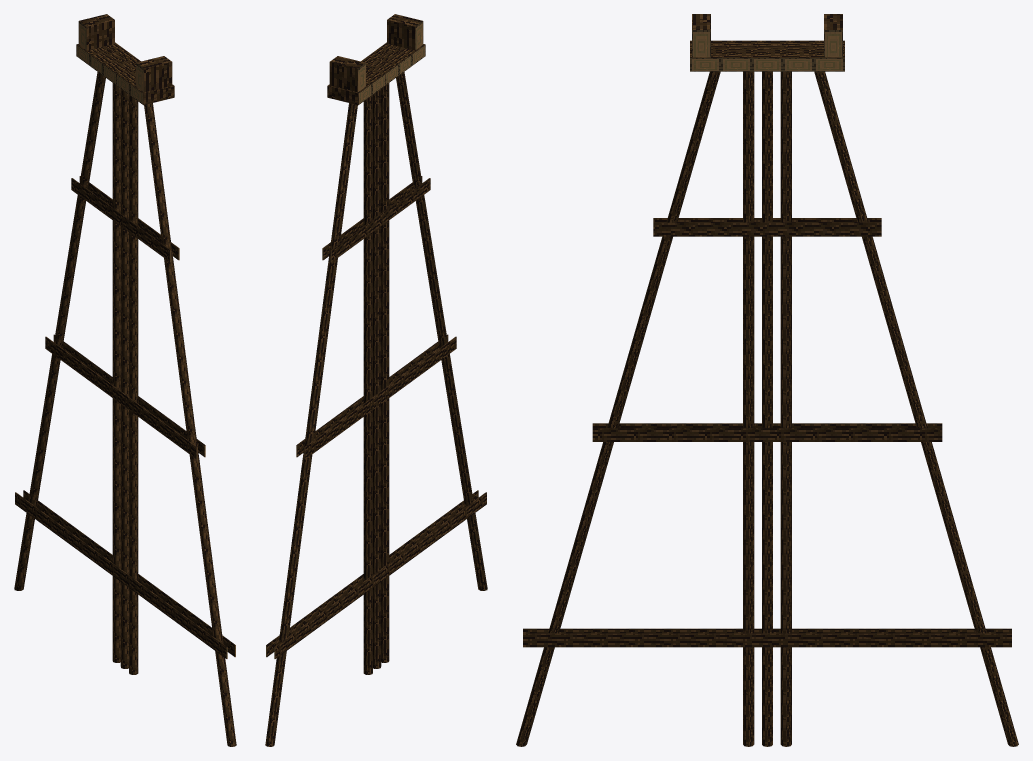
The model's file is darkoak_bridge_support.obj.
3 renders of one model, left to right at view 1: azimuth 30°, elevation 25°; view 2: azimuth 150°, elevation 25°; view 3: azimuth 270°, elevation 25°, orthographic. The views are drawn at different scales.
Visible parts, largest first — view 1: RAIL_BASE_Cylinder.003, RAIL_LEFT_Cylinder.001, RAIL_RIGHT_Cylinder.000; view 2: RAIL_BASE_Cylinder.003, RAIL_RIGHT_Cylinder.000, RAIL_LEFT_Cylinder.001; view 3: RAIL_BASE_Cylinder.003, RAIL_LEFT_Cylinder.001, RAIL_RIGHT_Cylinder.000.
Boxes of the visible parts, bbox=[...] form: RAIL_BASE_Cylinder.003: bbox=[14, 42, 236, 746]; RAIL_LEFT_Cylinder.001: bbox=[78, 14, 114, 50]; RAIL_RIGHT_Cylinder.000: bbox=[136, 56, 172, 92]; RAIL_BASE_Cylinder.003: bbox=[265, 42, 487, 746]; RAIL_RIGHT_Cylinder.000: bbox=[387, 14, 423, 50]; RAIL_LEFT_Cylinder.001: bbox=[329, 56, 365, 92]; RAIL_BASE_Cylinder.003: bbox=[516, 40, 1018, 746]; RAIL_LEFT_Cylinder.001: bbox=[824, 14, 842, 57]; RAIL_RIGHT_Cylinder.000: bbox=[692, 14, 710, 57].
Bounding box in the file's own units: 1.1 × 21.12 × 13.32.
5 materials, 5 textured.
